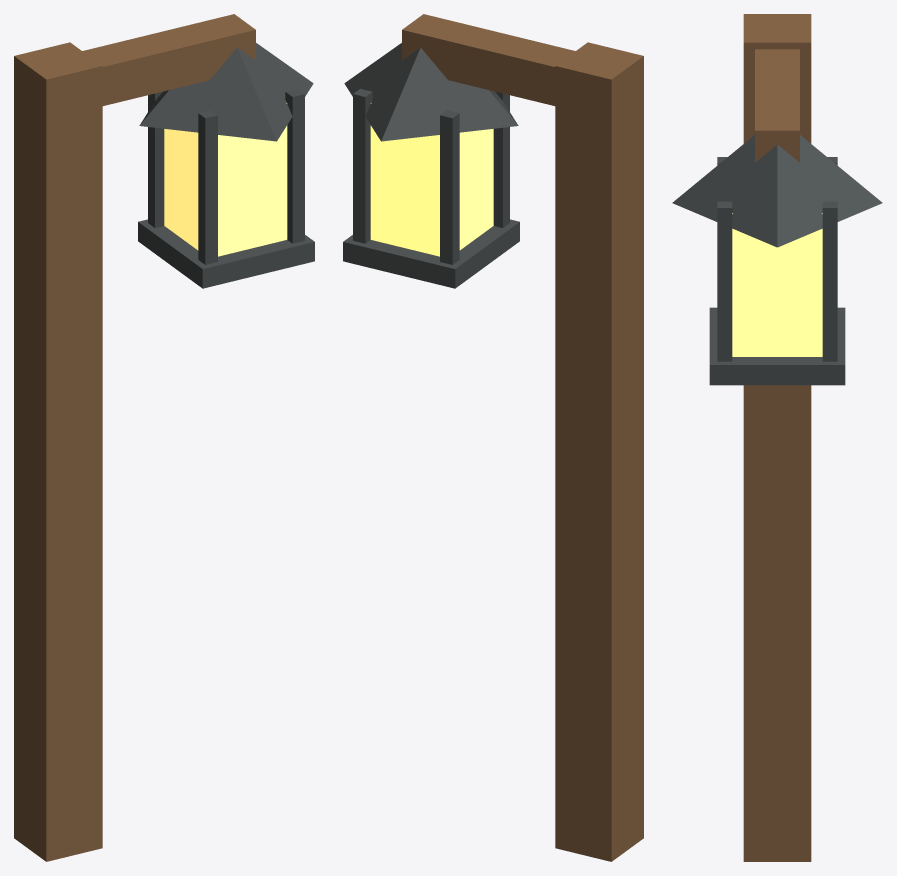
File: Lantern.glb
3 renders of one model, left to right at view 1: azimuth 30°, elevation 25°; view 2: azimuth 150°, elevation 25°; view 3: azimuth 270°, elevation 25°, orthographic. The views are drawn at different scales.
Visible parts, largest first — view 1: Post, Glass, LanternRoof, Bracket, LanternBase, Cage, Cage.002, Cage.001; view 2: Post, Glass, LanternRoof, Bracket, LanternBase, Cage.001, Cage.003, Cage; view 3: Post, LanternRoof, Glass, LanternBase, Bracket, Cage.002, Cage.003.
Part boxes in pixels (box(x1,y1,x2,y2)): Post: box(14, 42, 102, 861); Glass: box(164, 103, 287, 256); LanternRoof: box(139, 43, 313, 141); Bracket: box(82, 14, 255, 105); LanternBase: box(138, 219, 314, 288); Cage: box(198, 110, 217, 264); Cage.002: box(285, 89, 304, 243); Cage.001: box(148, 91, 164, 227); Post: box(555, 42, 643, 861); Glass: box(370, 103, 493, 256); LanternRoof: box(344, 43, 518, 141); Bracket: box(402, 14, 575, 105); LanternBase: box(343, 219, 519, 288); Cage.001: box(440, 110, 459, 264); Cage.003: box(353, 89, 372, 243); Cage: box(493, 91, 509, 227); Post: box(743, 14, 811, 861); LanternRoof: box(672, 135, 882, 247); Glass: box(732, 213, 822, 356); LanternBase: box(709, 307, 845, 385); Bracket: box(755, 49, 799, 162); Cage.002: box(717, 201, 732, 361); Cage.003: box(822, 201, 837, 361).
Bounding box in the file's own units: 2.28 × 6 × 1.4.
